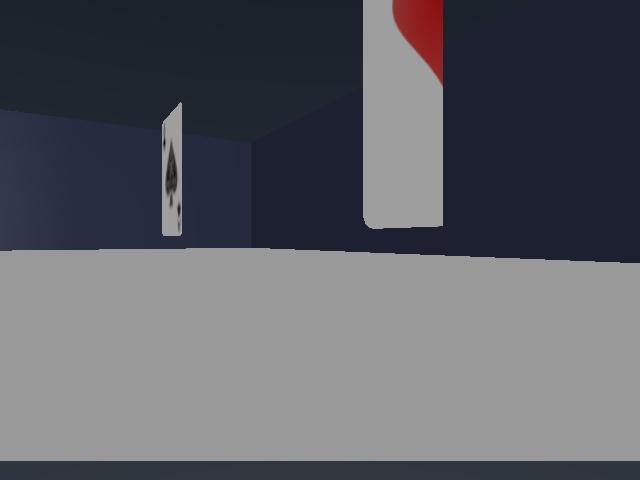club: (162, 103, 182, 235)
